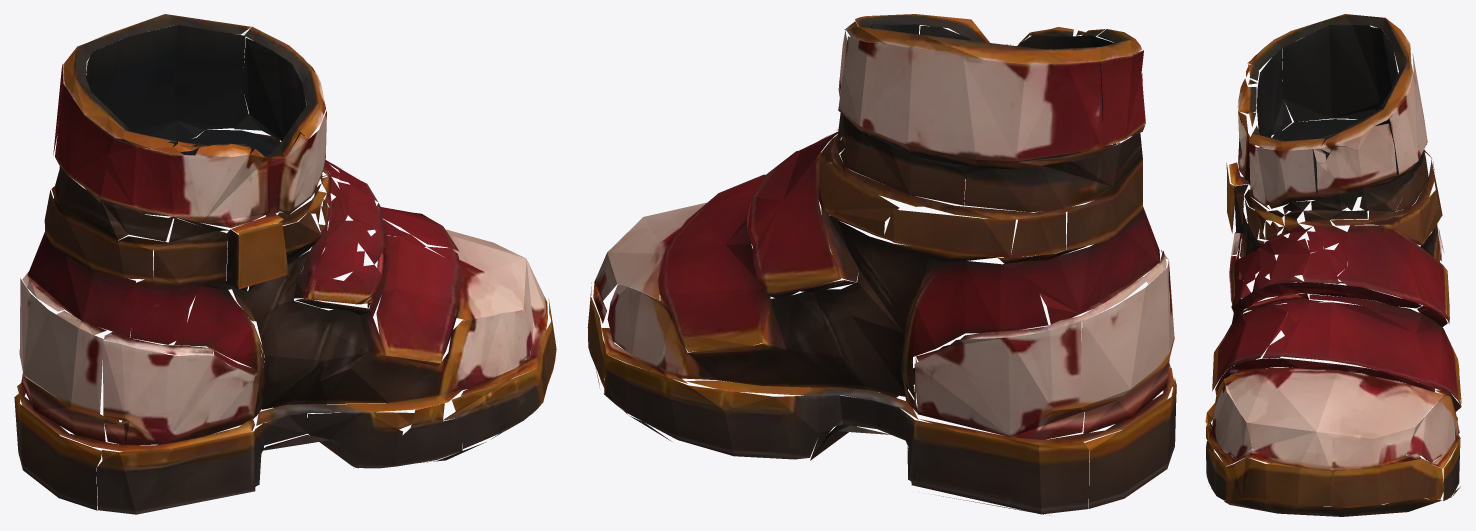
The model's file is dsa_mail_boot_lo.glb.
3 renders of one model, left to right at view 1: azimuth 30°, elevation 25°; view 2: azimuth 150°, elevation 25°; view 3: azimuth 270°, elevation 25°, orthographic. The views are drawn at different scales.
Visible parts, largest first — view 1: tmpc4qg8s7x.ply; view 2: tmpc4qg8s7x.ply; view 3: tmpc4qg8s7x.ply.
Boxes of the visible parts, <box> form: tmpc4qg8s7x.ply: <box>14,14,556,514</box>; tmpc4qg8s7x.ply: <box>587,14,1176,515</box>; tmpc4qg8s7x.ply: <box>1205,14,1461,516</box>.
Size of the model in its own units: 1.99 by 1.55 by 1.03.
Materials: 1 (1 with a texture image).
